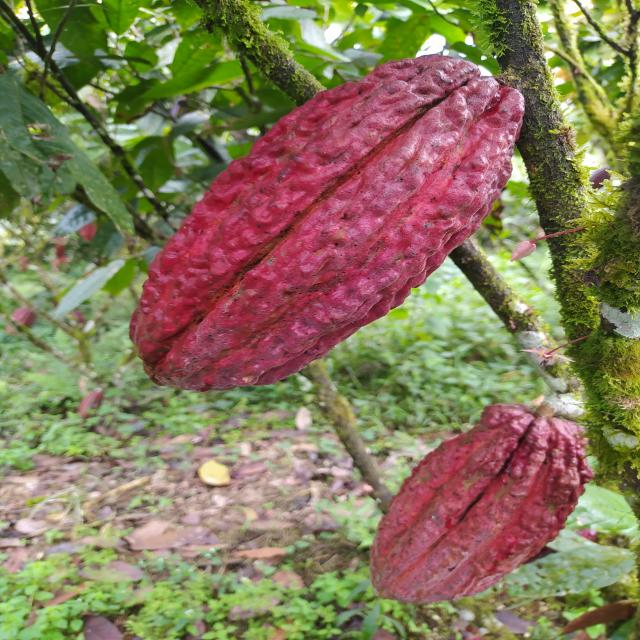Sana: (127, 54, 525, 390), (364, 402, 594, 603)
